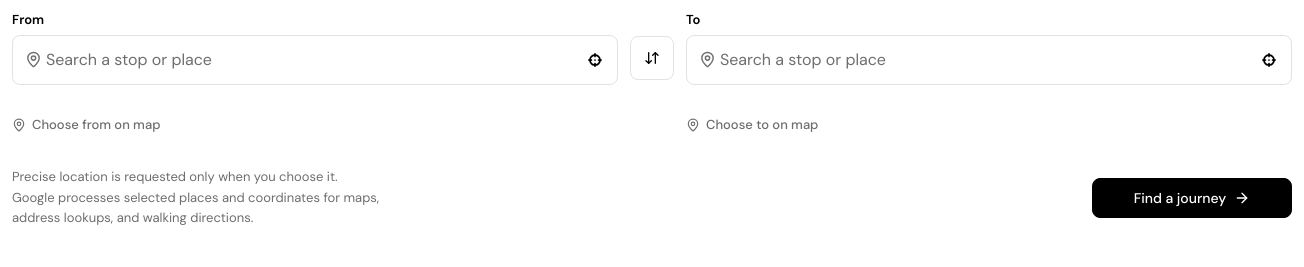
Test: Guest journey form › recovers from geolocation denial
Step 1. Click the button named "Use my location for from" → (595, 60), box [577, 42, 613, 78]
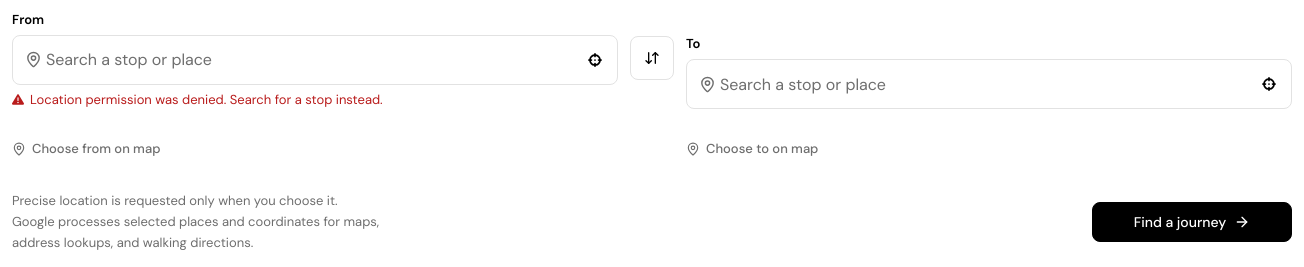
Now the text "Location permission was denied. Search for a stop instead." is shown, box [12, 91, 383, 108]
